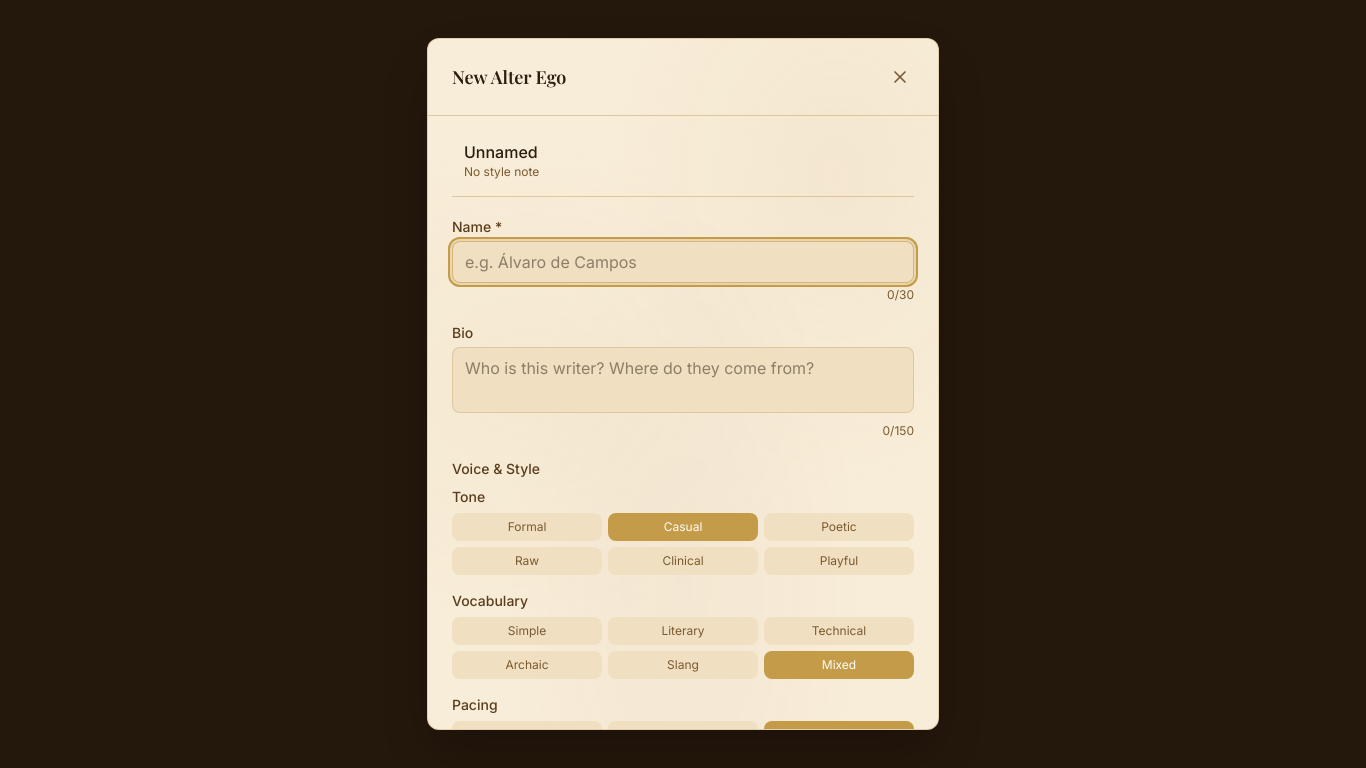
Test: HeteronymModal › shows live preview with name
Expected: the text "Unnamed" is shown, [464, 140, 539, 164]
In the field with placeholder "e.g. Álvaro de Campos": [683, 262] box [452, 241, 914, 283], type "Fernando"
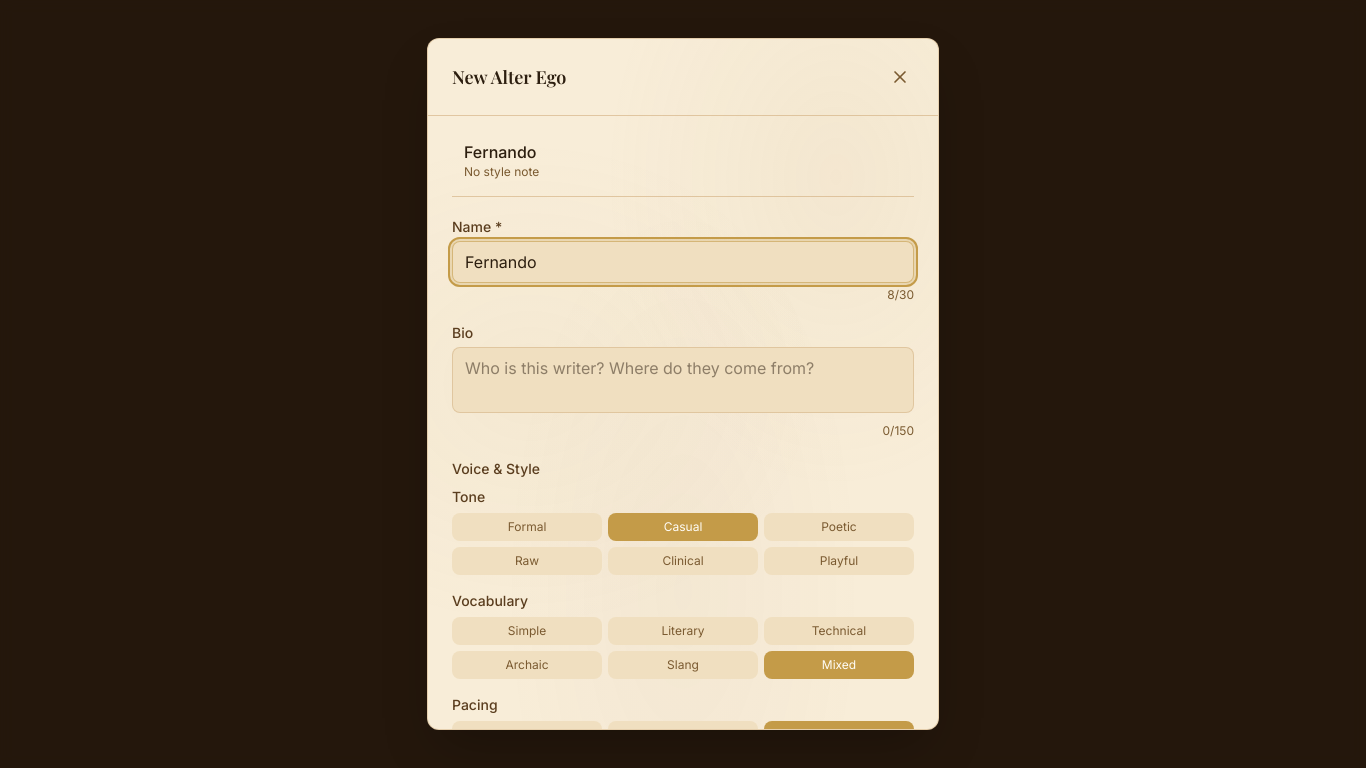
Expected: the text "Fernando" is shown, [464, 140, 539, 164]
